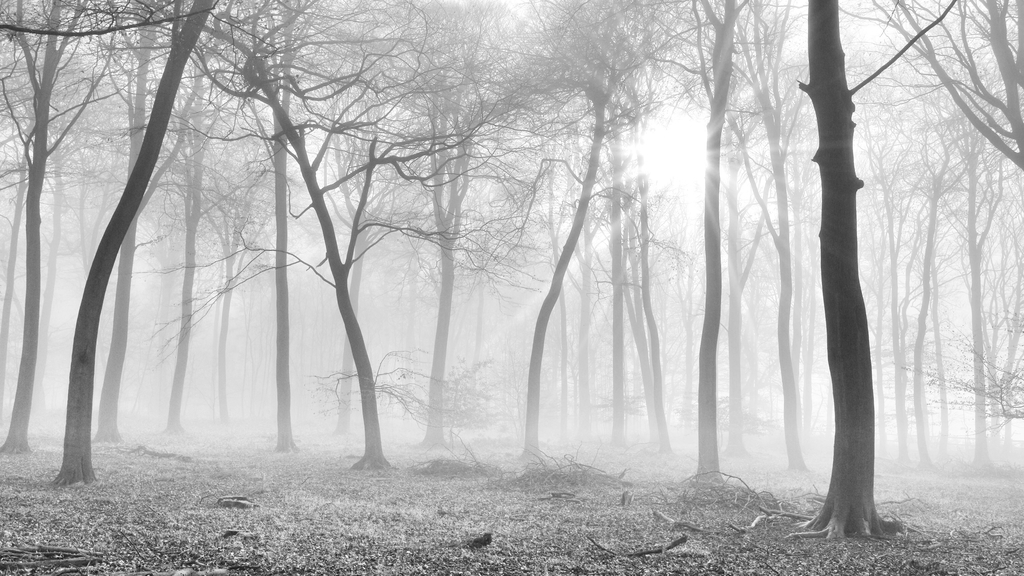Tree: (0, 0, 792, 544), (797, 0, 963, 532), (967, 0, 1023, 429)
